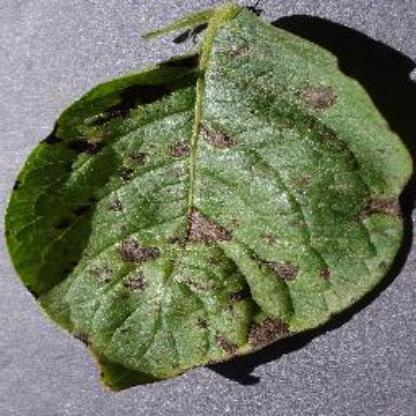Early-Blight: (8, 5, 414, 390)
